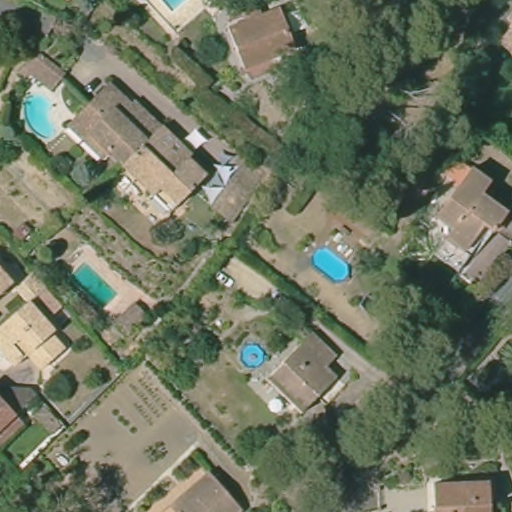pool: (64, 255, 122, 311), (19, 89, 65, 146), (307, 243, 354, 281), (237, 339, 271, 368), (155, 1, 194, 15)
